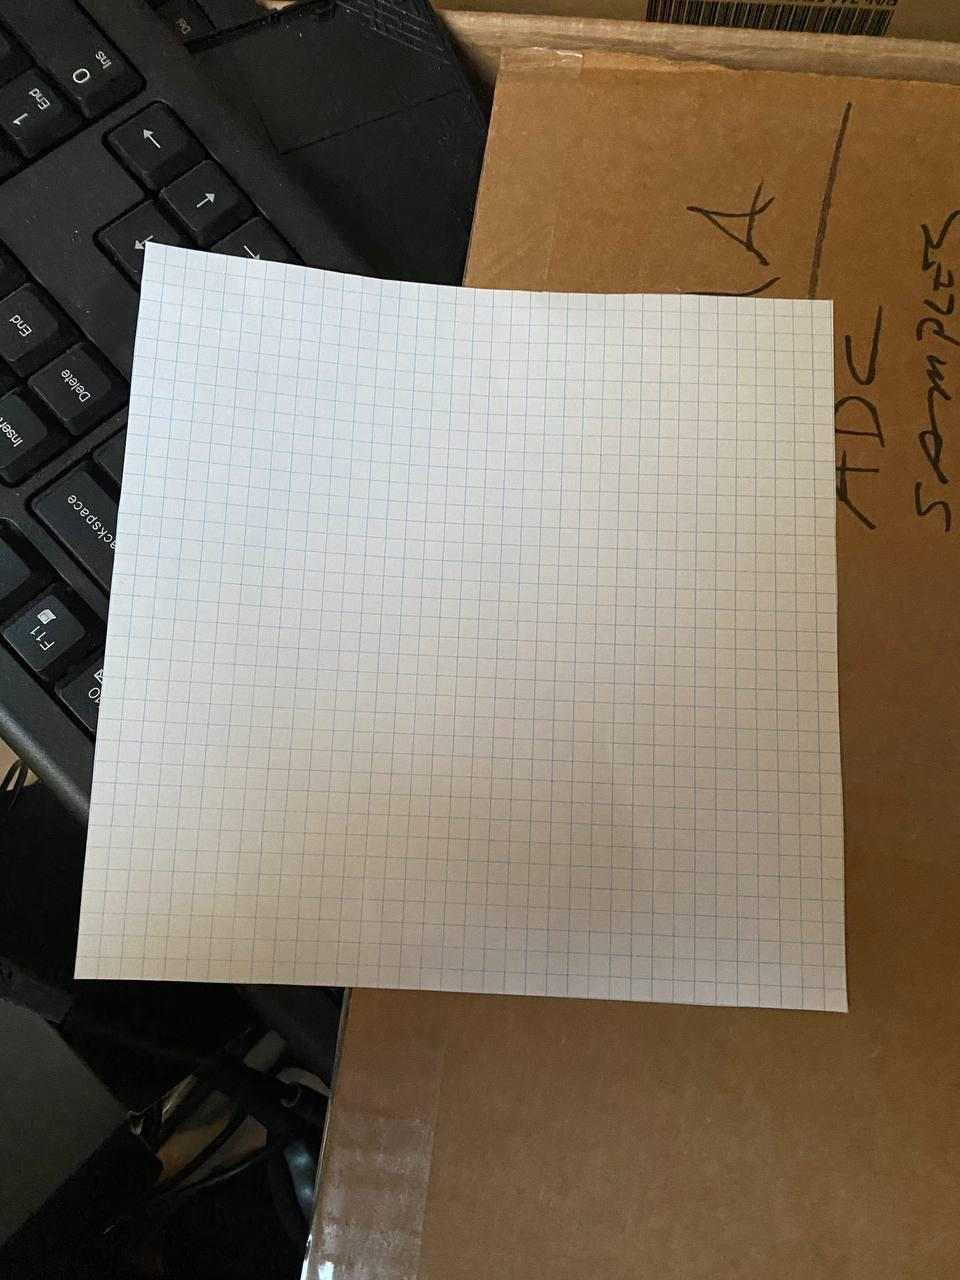grid: (66, 234, 891, 1045)
